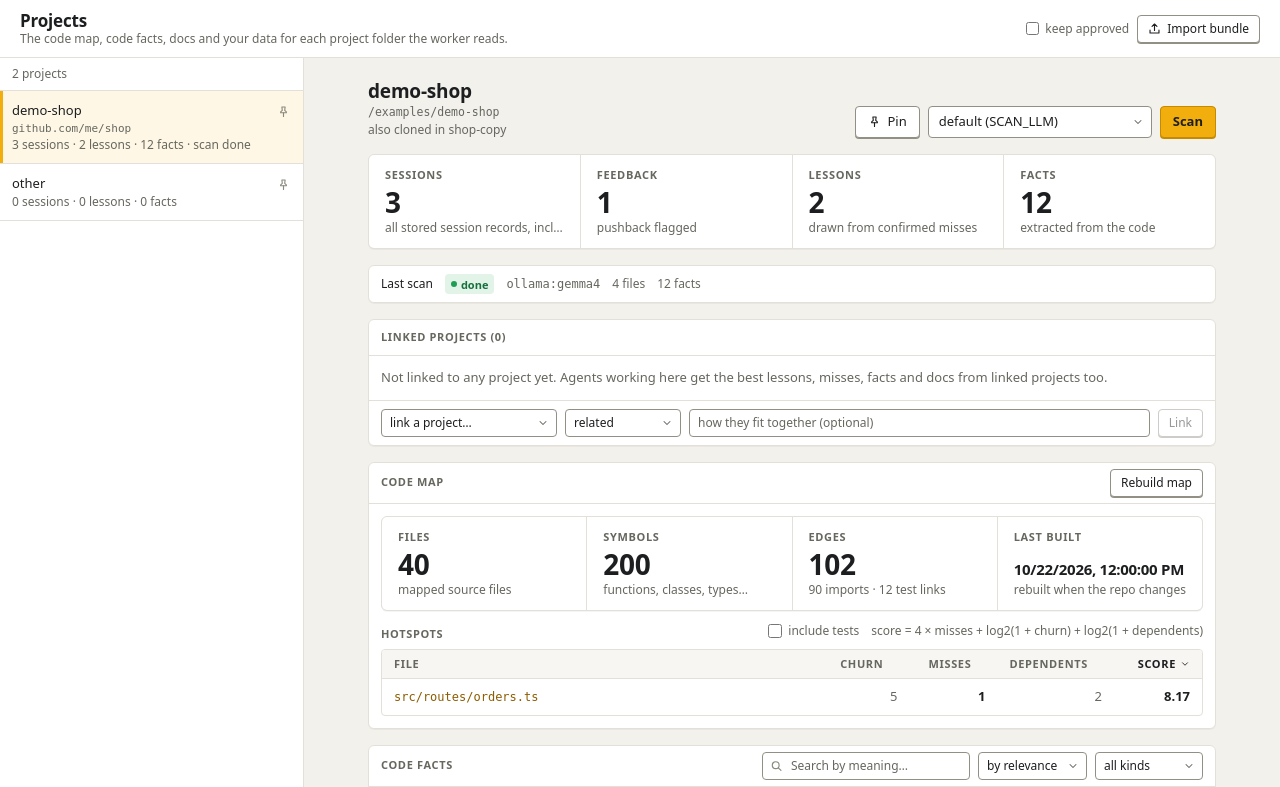
Scenario: search shows semantic hits
Type "tenant isolation" into the field named "search facts". click: (866, 766)
box: left=762, top=752, right=970, bottom=780
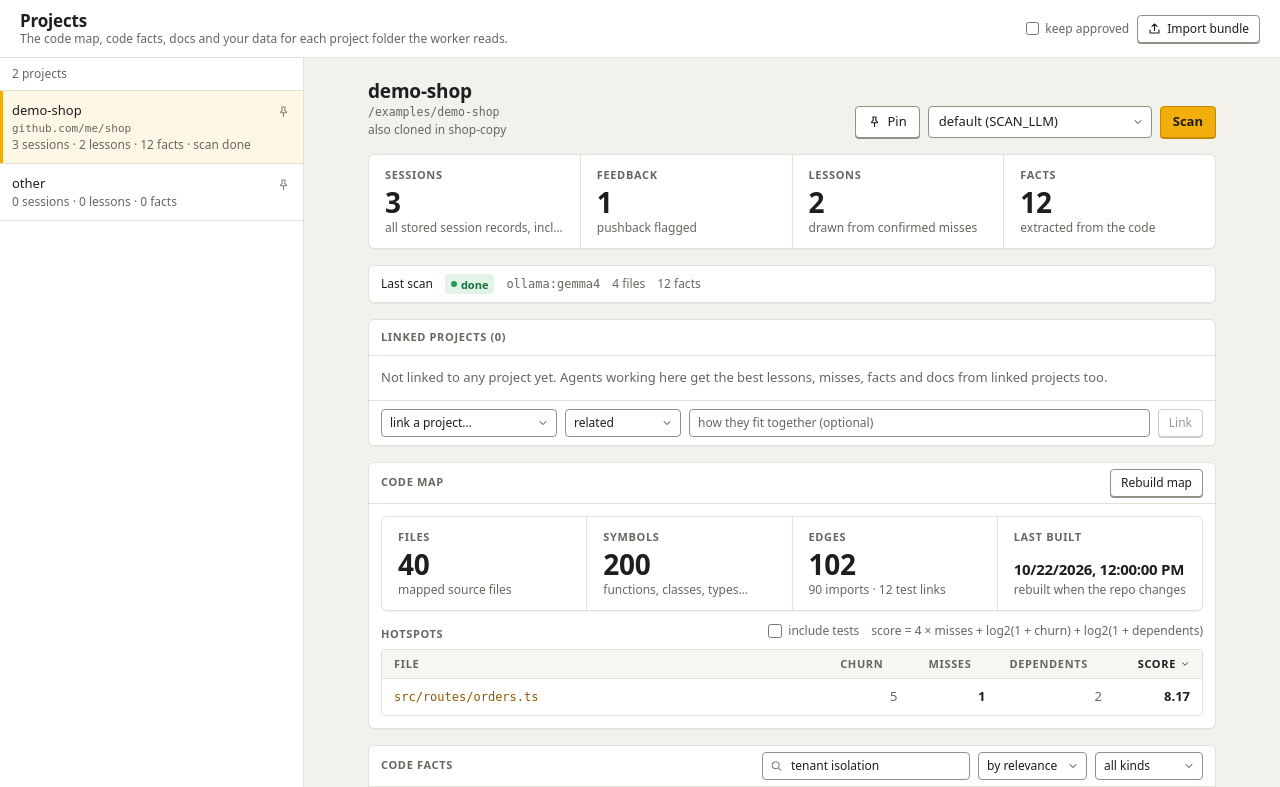
Submit the form named "search facts", box left=762, top=752, right=970, bottom=780
(page scrolled)
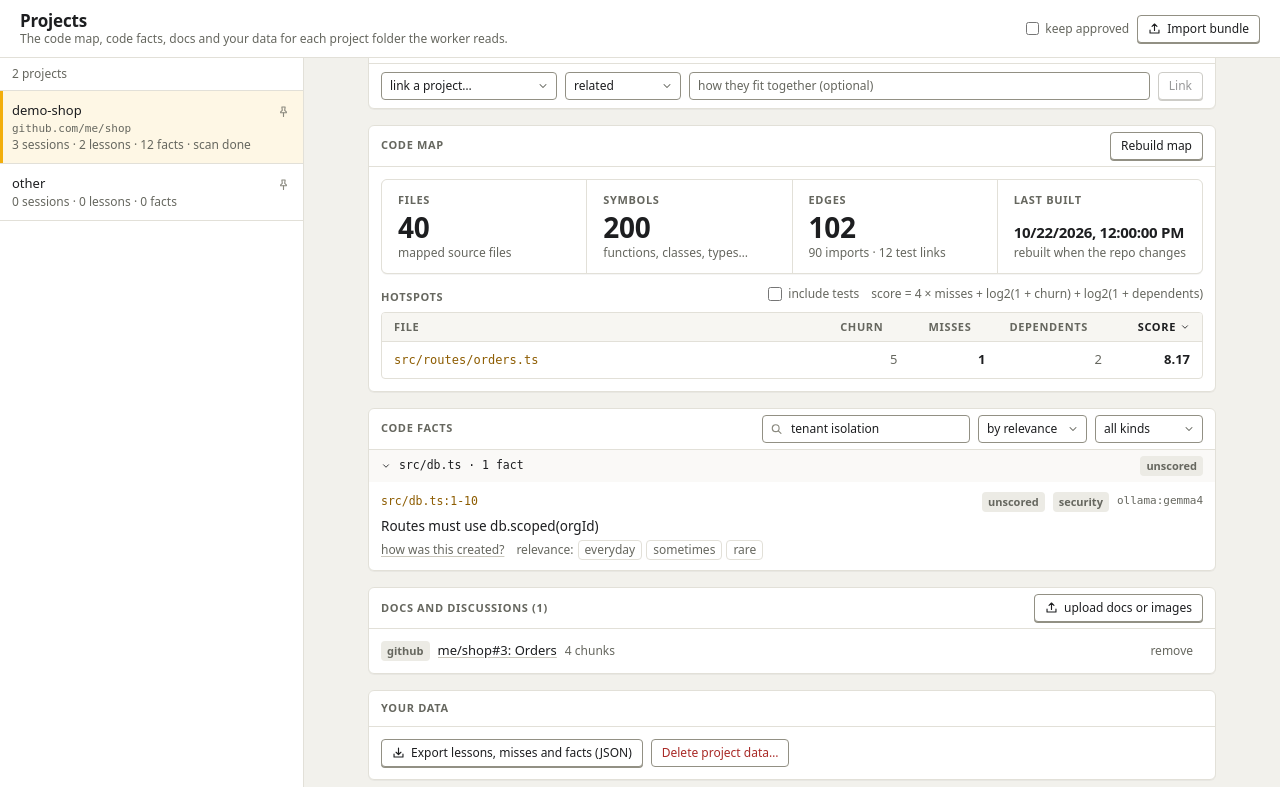
Now the text "Routes must use db.scoped(orgId)" is shown, box left=381, top=517, right=599, bottom=535
